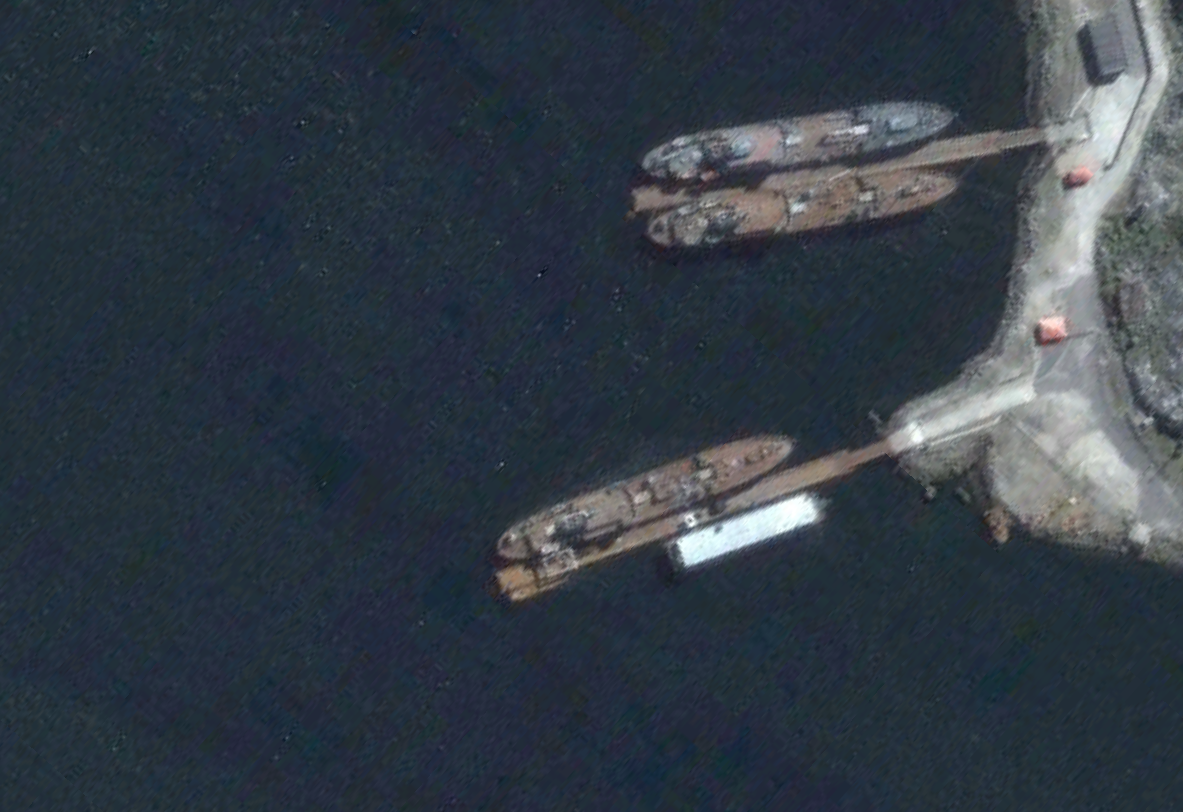merchant ship: (494, 432, 794, 562), (642, 100, 958, 184), (644, 167, 956, 251)
